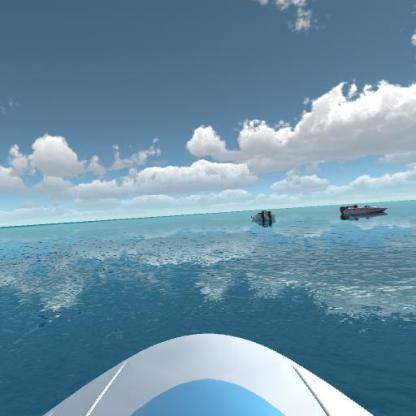usv1: (249, 206, 278, 229)
usv3: (338, 198, 389, 224)
